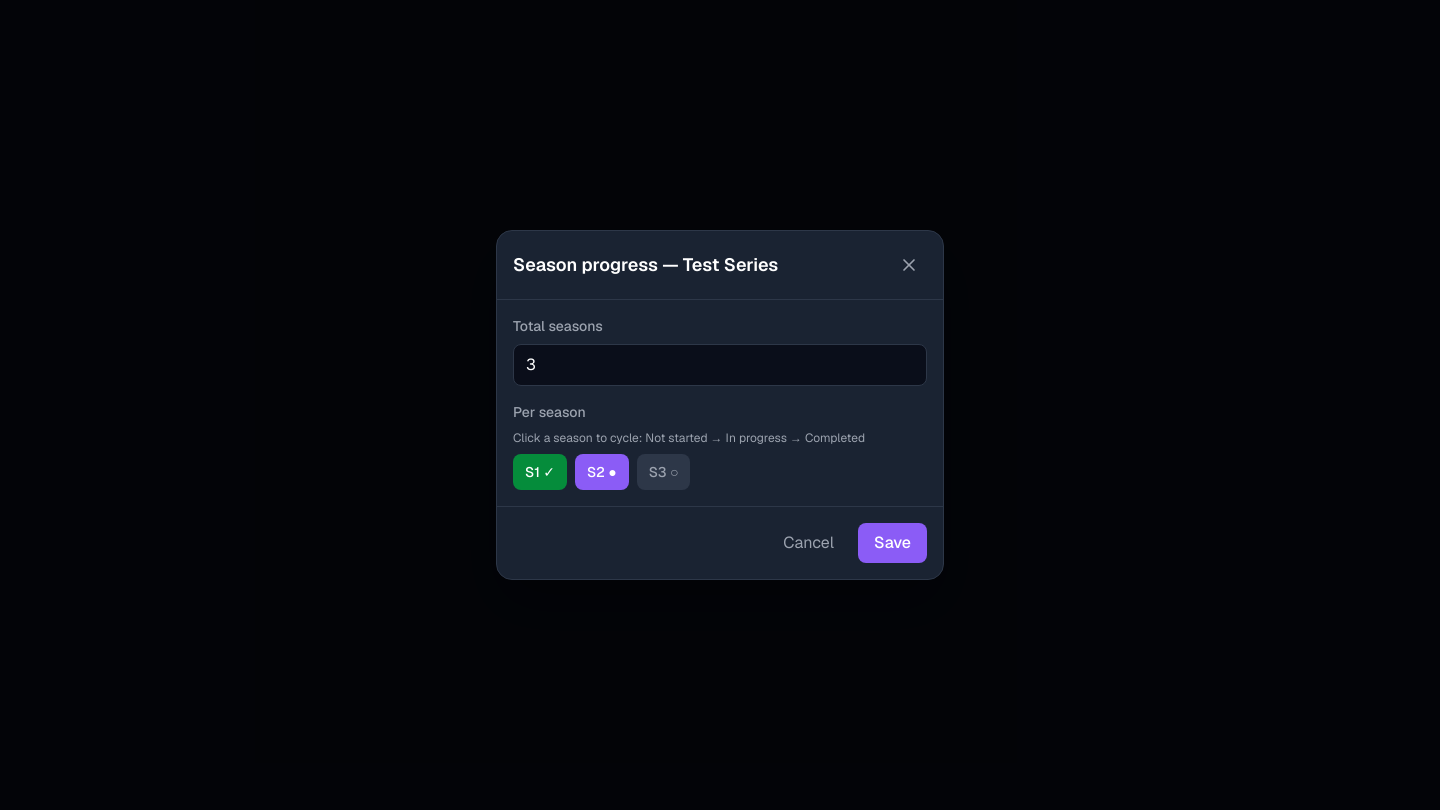
Test case: SeasonProgressEditor › should cycle season status on click
Note: Click once: in_progress (●)
Click the button "S3 ○".
click(664, 472)  # box [637,454,690,490]
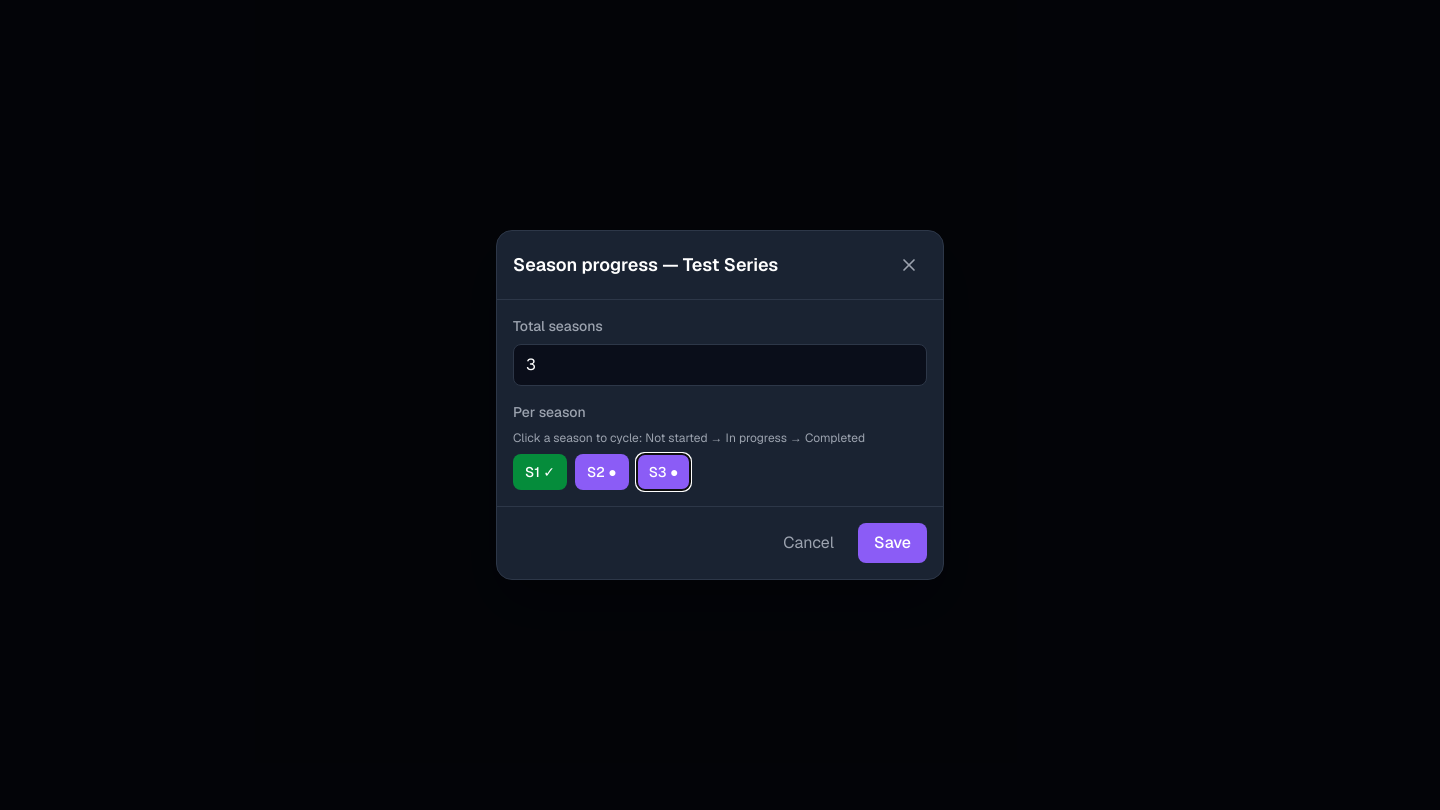
Result: the button "S3 ●" is shown
Note: Click twice: completed (✓)
Click the button "S3 ●".
click(664, 472)  # box [637,454,690,490]
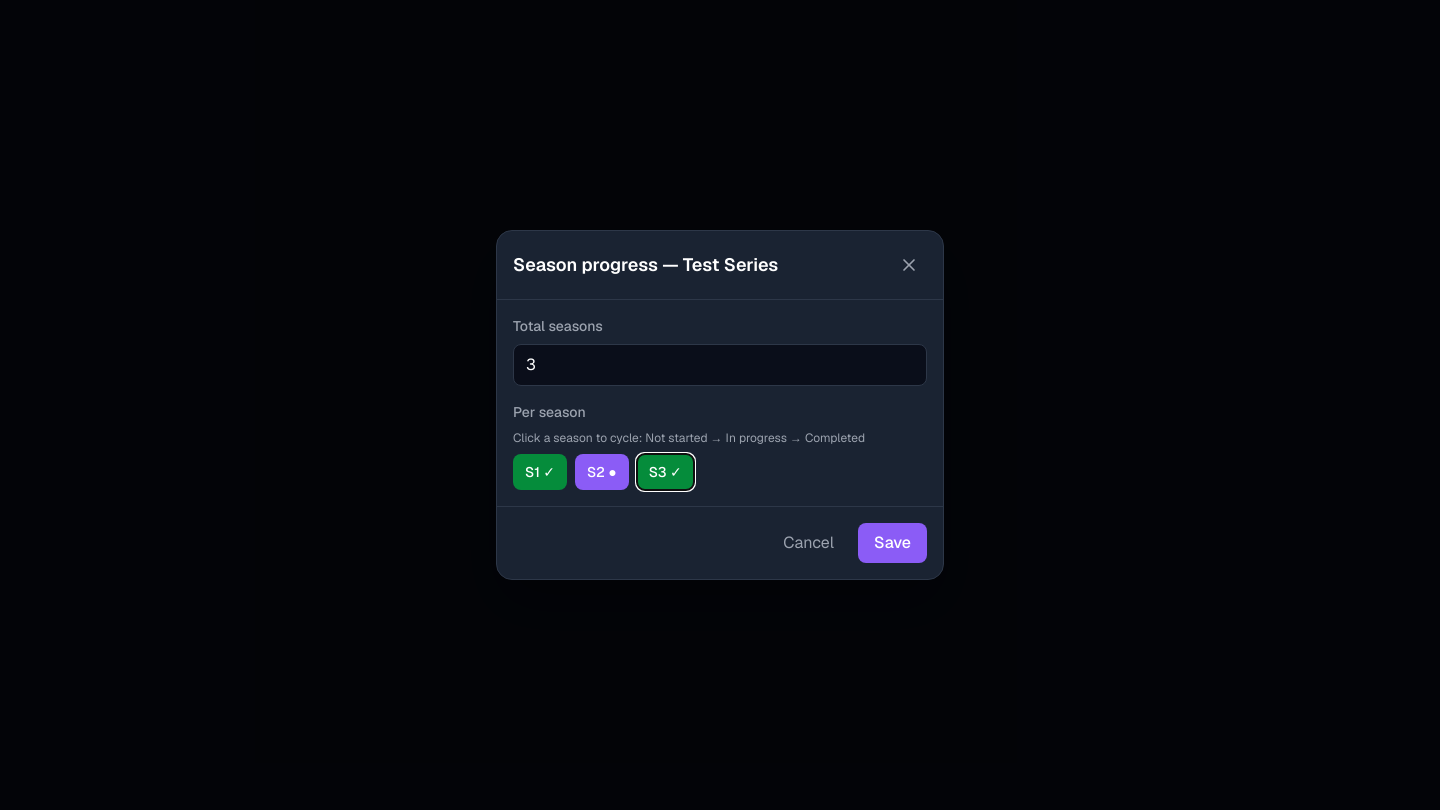
Result: the button "S3 ✓" is shown
Note: Click thrice: back to not_started (○)
Click the button "S3 ✓".
click(665, 472)  # box [637,454,694,490]
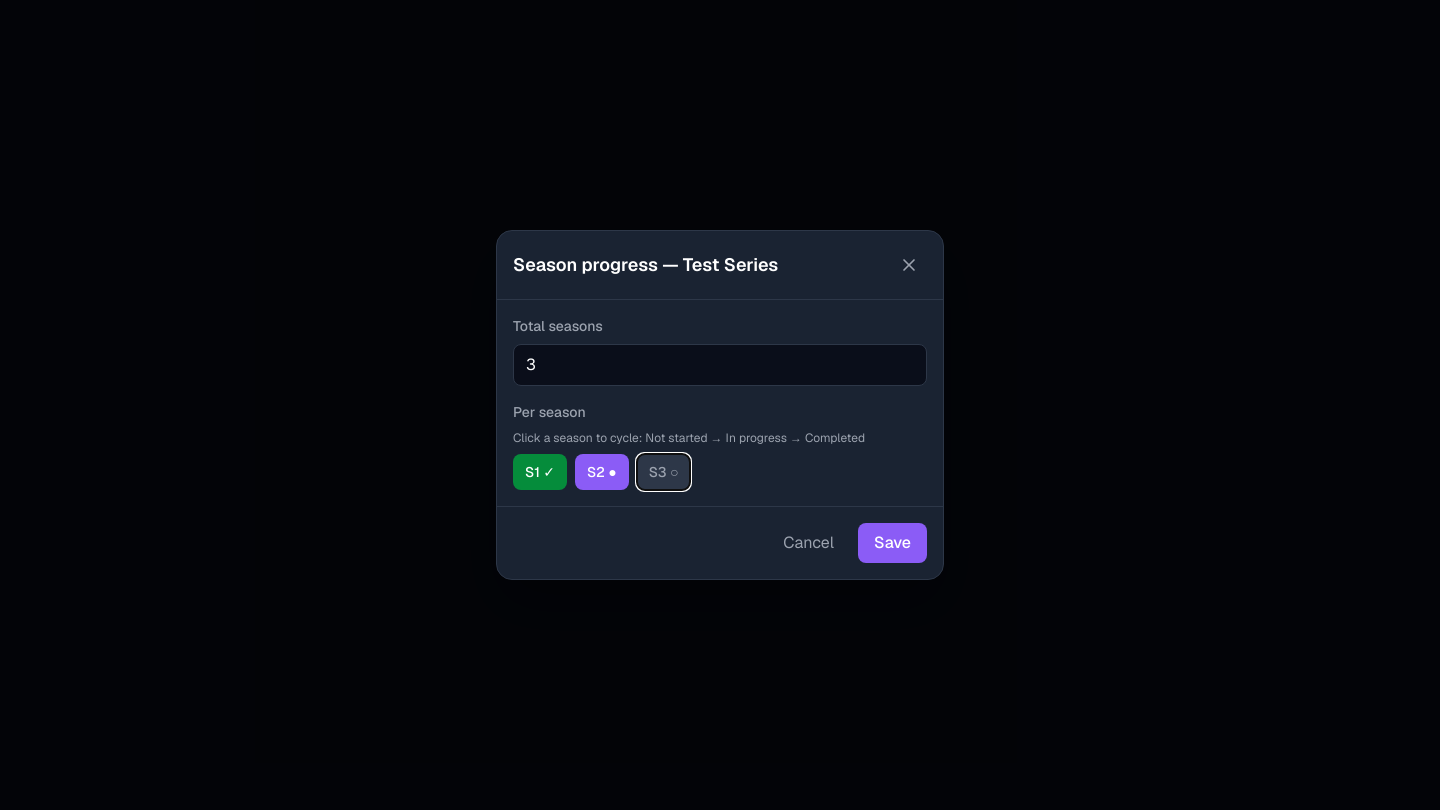
Result: the button "S3 ○" is shown at [637,454,690,490]
